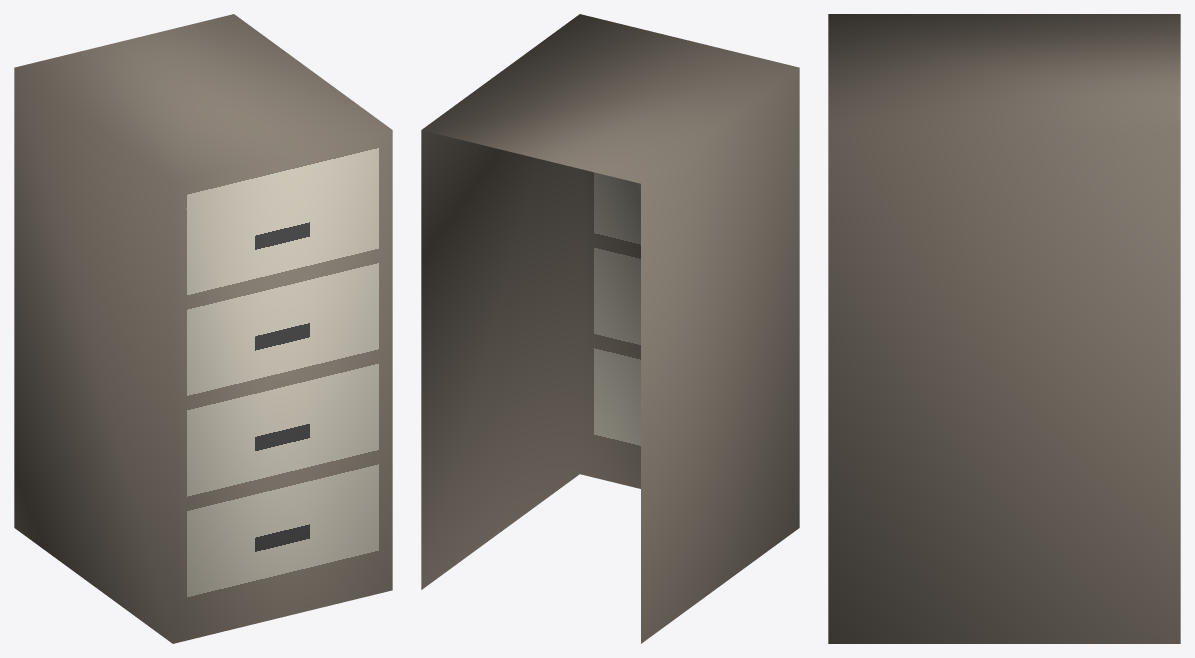
Rendered from Cabinet.fbx.
3 renders of one model, left to right at view 1: azimuth 30°, elevation 25°; view 2: azimuth 150°, elevation 25°; view 3: azimuth 270°, elevation 25°, orthographic. The views are drawn at different scales.
Visible parts, largest first — view 1: Cube; view 2: Cube; view 3: Cube.
Boxes of the visible parts, left/top/right/bottom form: Cube: left=14, top=14, right=392, bottom=643; Cube: left=421, top=14, right=799, bottom=643; Cube: left=828, top=14, right=1180, bottom=643.
Size of the model in its own units: 32 by 64 by 40.
Materials: 1 (1 with a texture image).
